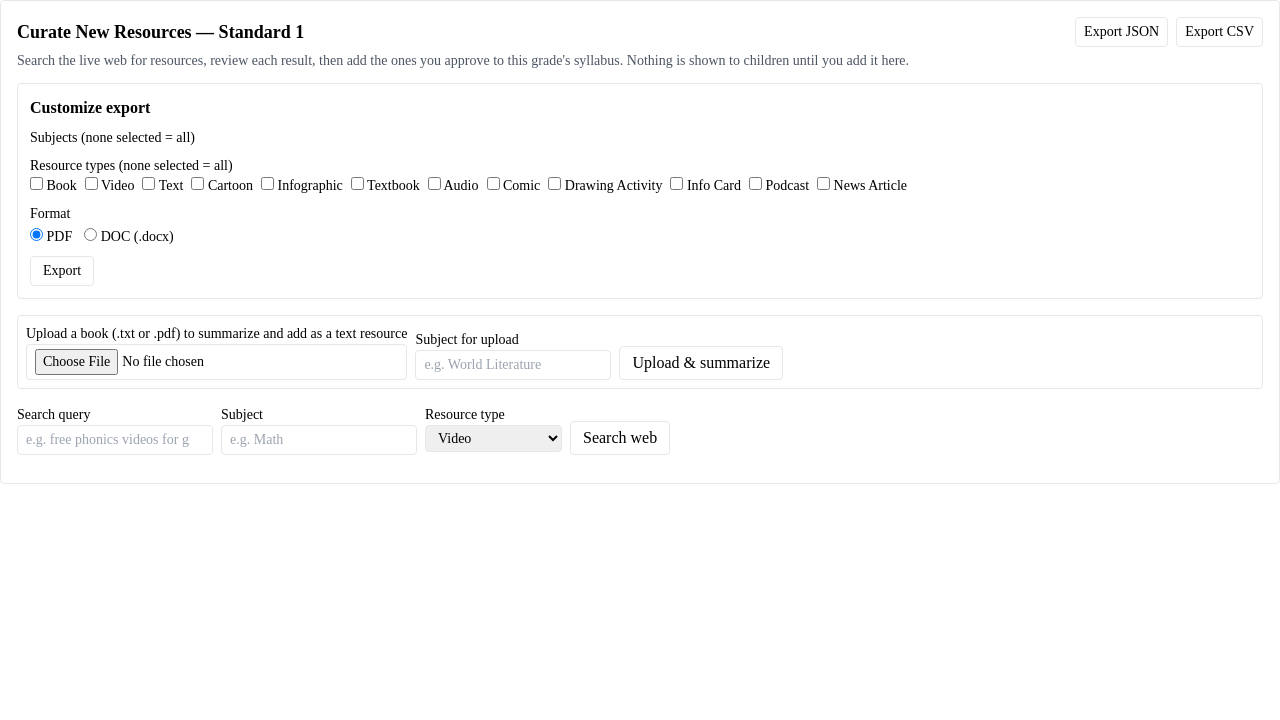
ParentCuration › requires a subject before adding a resource
The image size is (1280, 720).
Step 1. Type "math games" into the search field labelled "Search query" → (115, 440), box [17, 425, 213, 455]
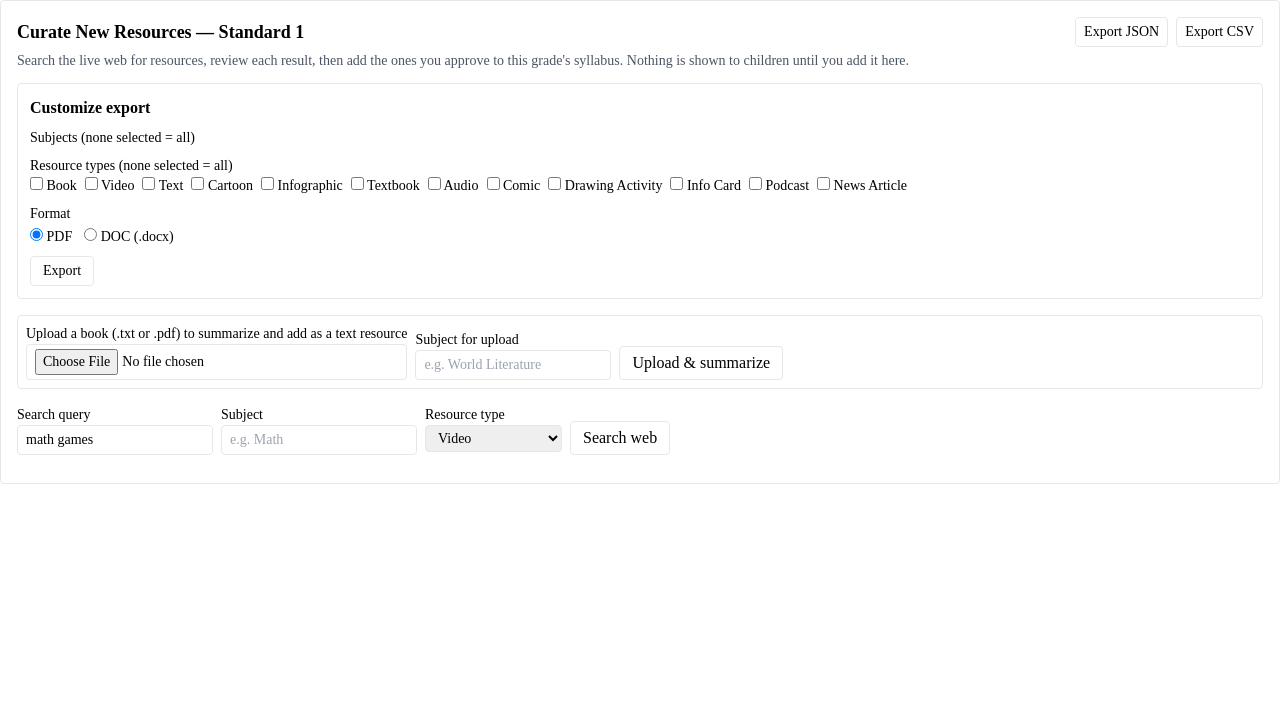
Step 2. Click the button "Search web" → (620, 438), box [570, 421, 670, 455]
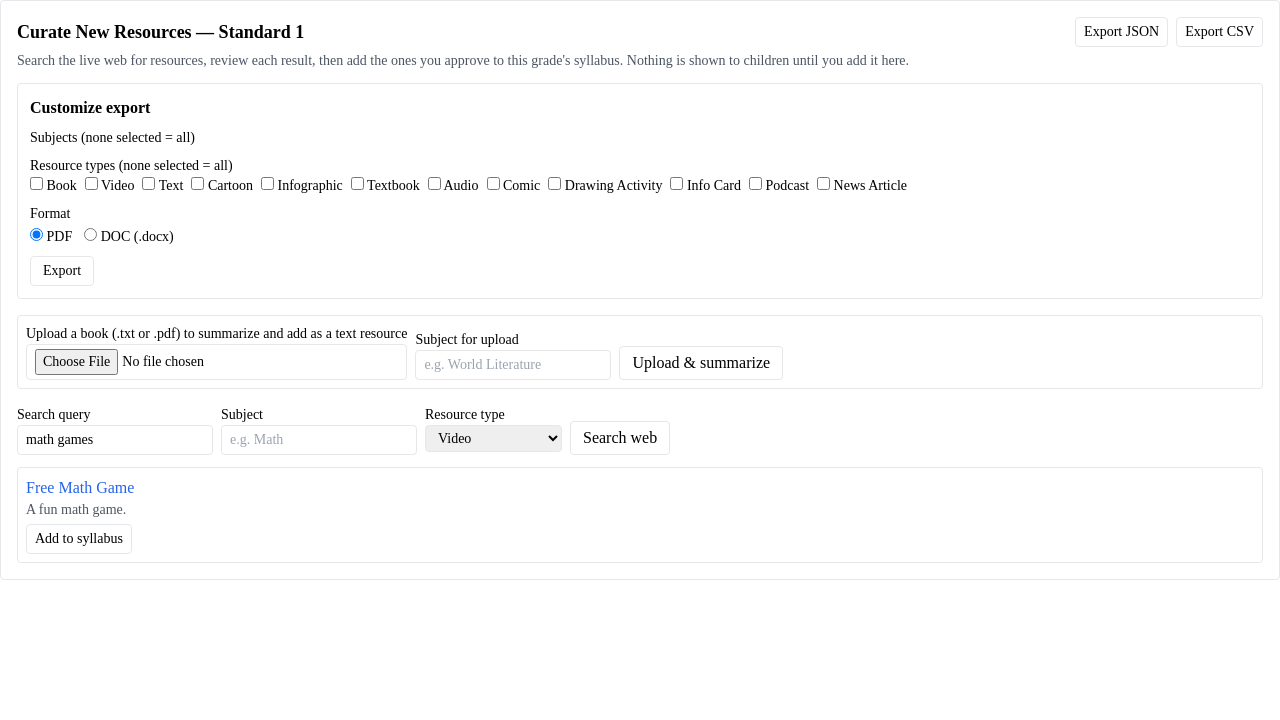
Now the link "Free Math Game" is shown, box [26, 479, 134, 496]
Step 3. Click the button "Add to syllabus" → (79, 539), box [26, 524, 132, 554]
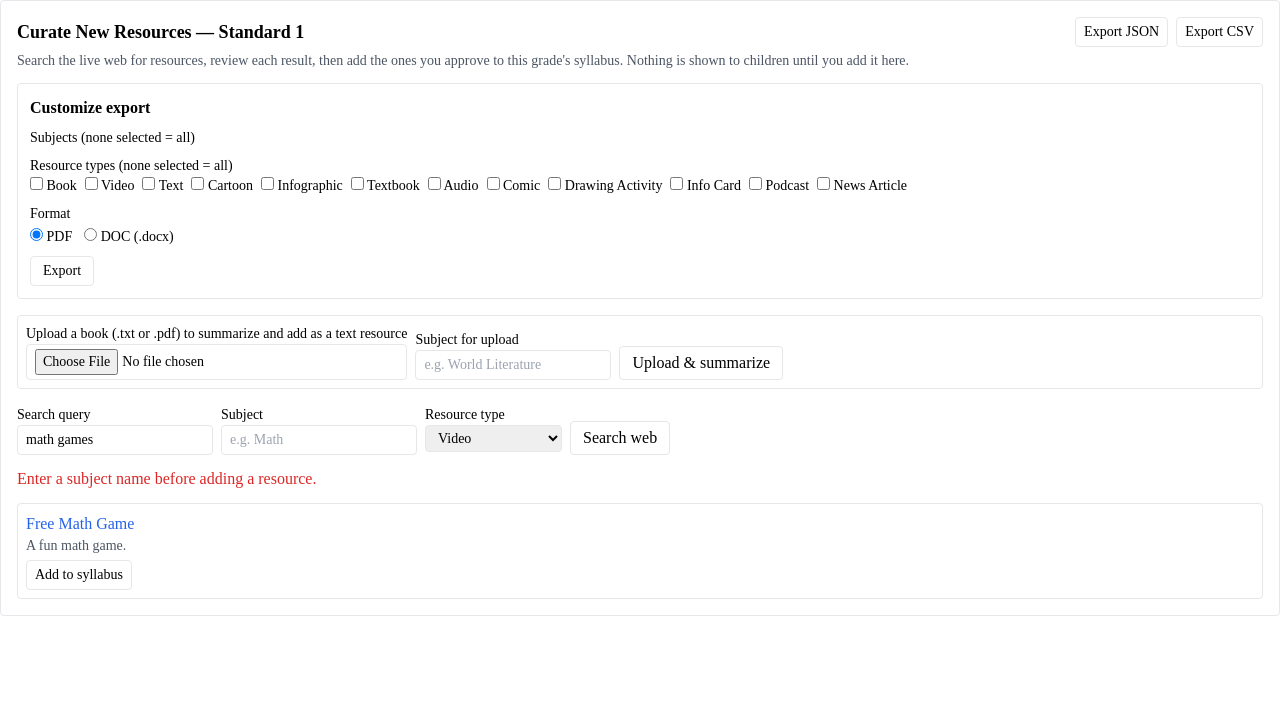
Now the text "Enter a subject name before adding a resource." is shown, box [17, 470, 316, 487]
